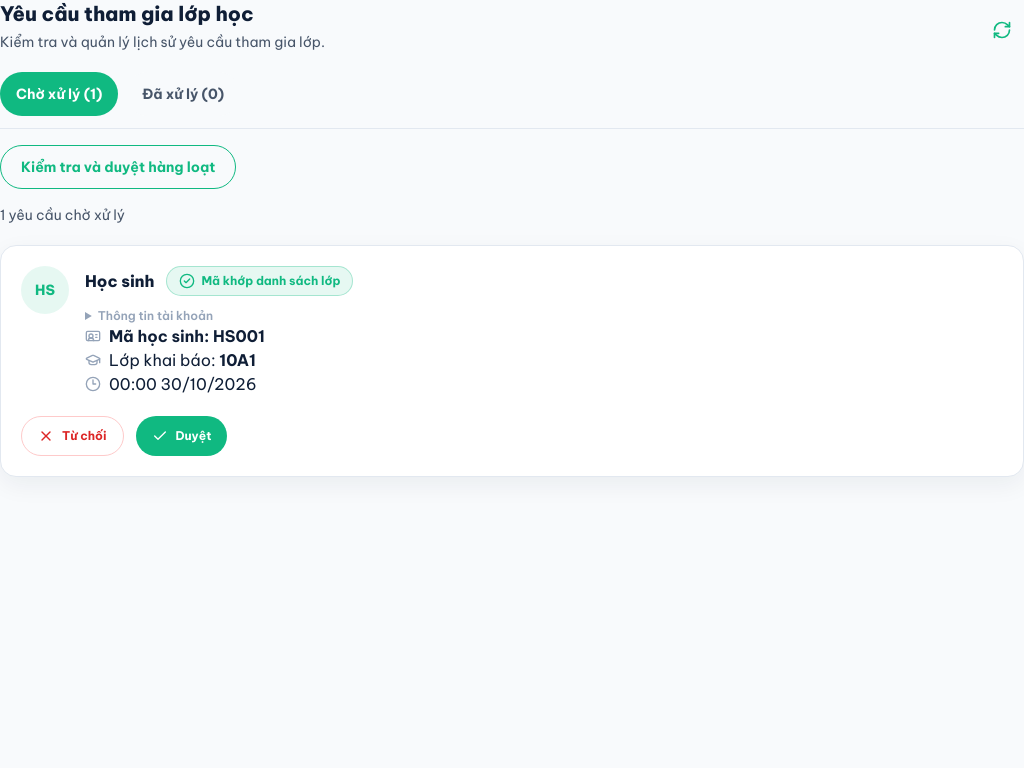
teacher join request management › rejects only after confirmation and never refetches membership count for reject
Click the button "Từ chối": coordinates (72, 436) [21,416,124,456]
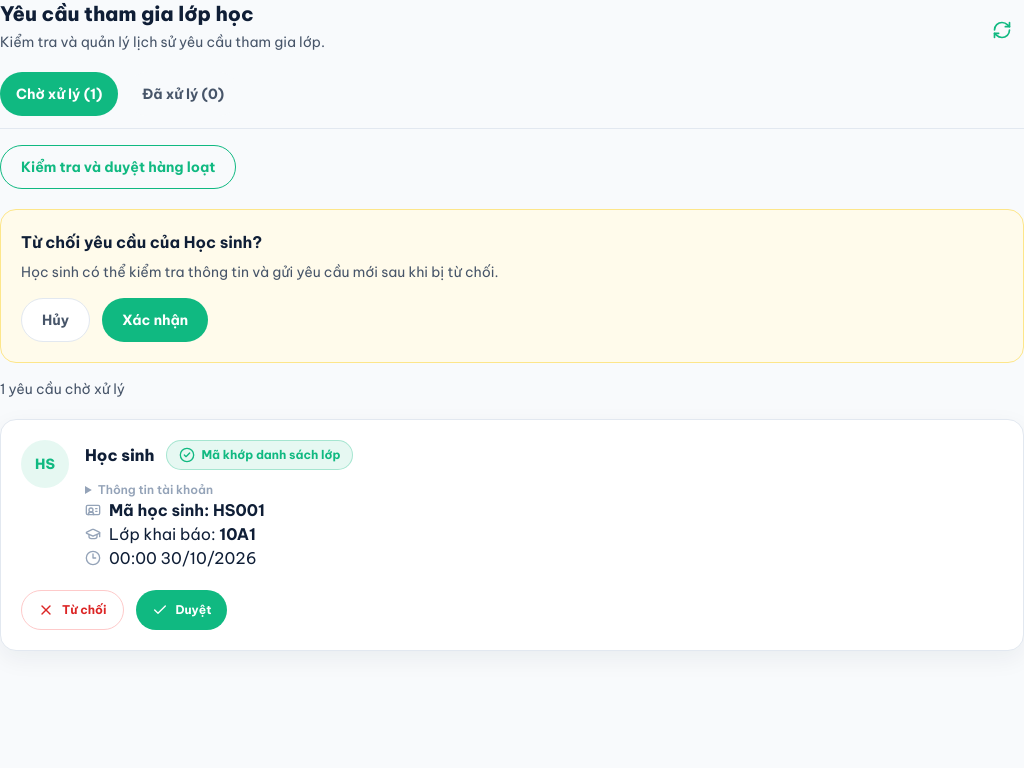
Click the button "Xác nhận": coordinates (155, 320) [102,298,208,342]
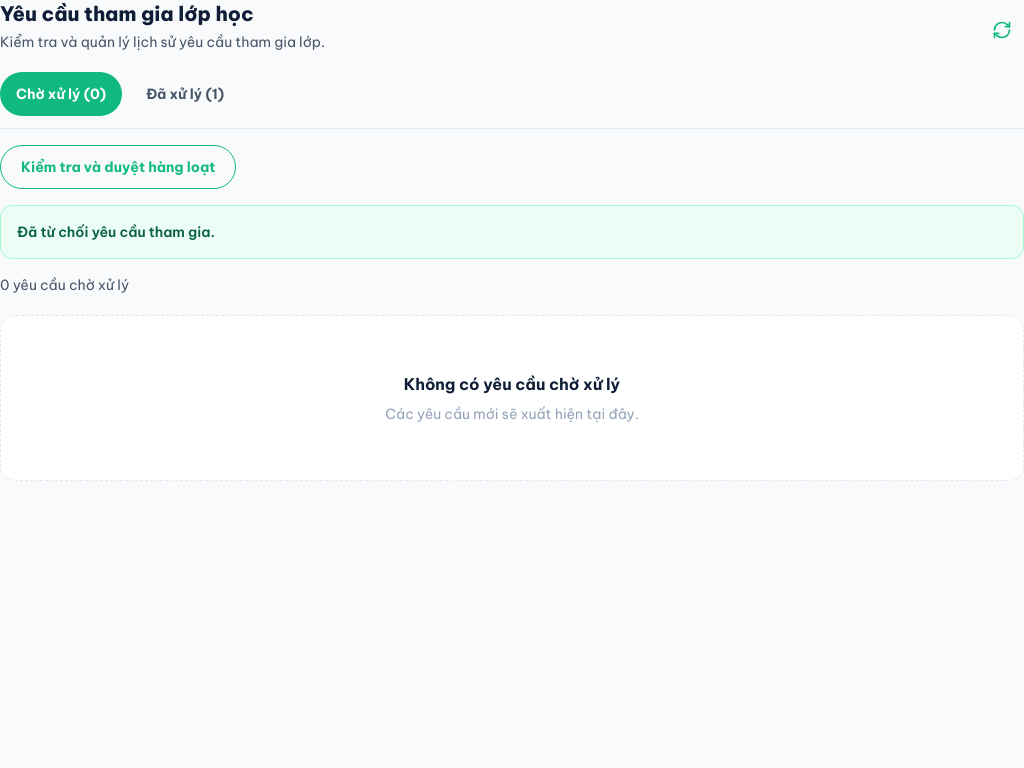
Check: the tab "Đã xử lý (1)" is shown, box [130,72,240,116]
Check: the text "Đã từ chối yêu cầu tham gia." is shown, box [0,205,1023,259]
Check: the text "Không có yêu cầu chờ xử lý" is shown, box [404,374,620,394]
